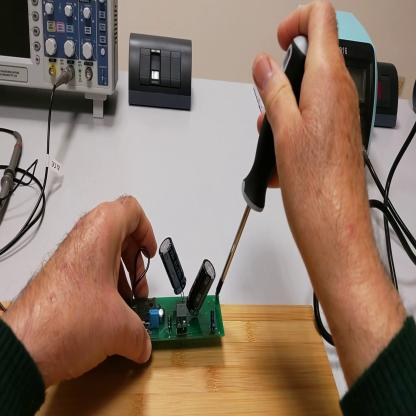hand: (254, 4, 372, 269), (14, 194, 159, 385)
high voltage board: (126, 237, 226, 343)
oscilloscope: (1, 1, 119, 120)
oscilloscope probe tip: (3, 130, 26, 217)
screwdriver-: (217, 35, 310, 293)
socket: (374, 62, 400, 130), (412, 76, 416, 117)
welder station: (337, 16, 381, 172)
working area: (1, 301, 343, 416)
